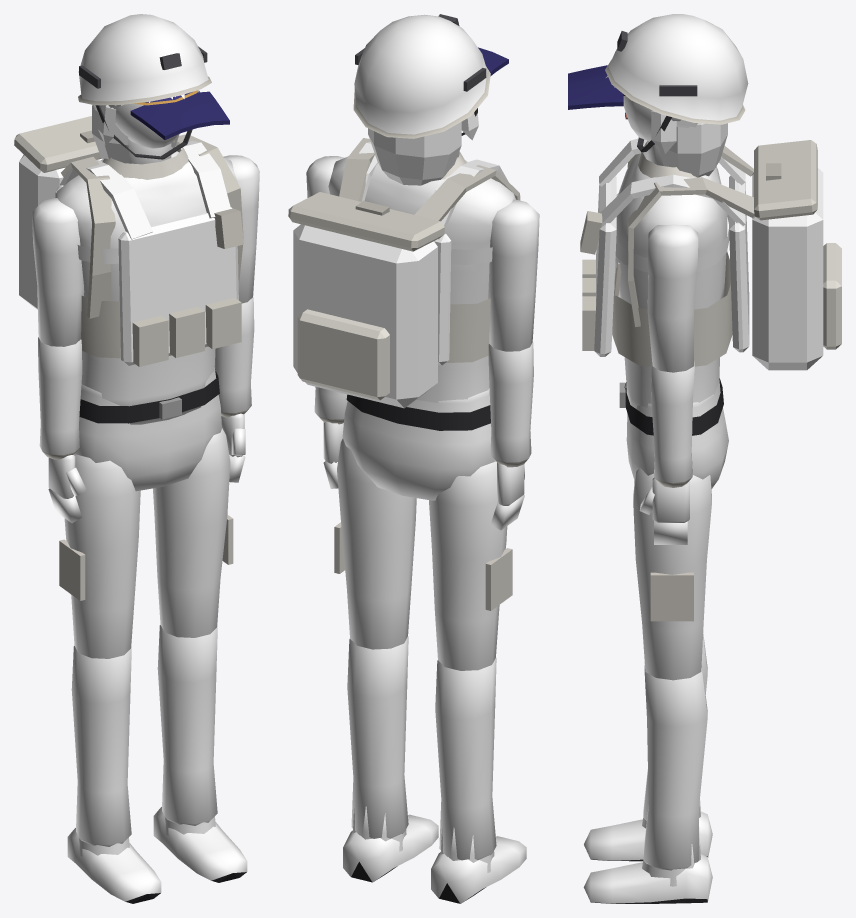
The model's file is person.glb.
3 views of the same model, side by side, from view 1: azimuth 30°, elevation 25°; view 2: azimuth 150°, elevation 25°; view 3: azimuth 270°, elevation 25° (orthographic). The views are drawn at different scales.
Visible parts, largest first — view 1: vest, thighR, thighL, pack, hips, shinR, shinL, helmet, chest, armR, spine, foreR (+10 smaller); view 2: pack, helmet, thighR, hips, thighL, shinR, shinL, chest, armR, vest, foreR, hair_long (+8 smaller); view 3: pack, vest, helmet, thighL, shinL, chest, armL, hips, footL, foreL, hair_long, footR (+5 smaller).
Part boxes in pixels (box(x1,y1,x2,y2)): vest: box(55, 141, 243, 366); thighR: box(59, 454, 140, 658); thighL: box(153, 428, 233, 637); pack: box(14, 116, 243, 318); hips: box(75, 367, 221, 491); shinR: box(71, 646, 131, 846); shinL: box(157, 625, 217, 825); helmet: box(78, 14, 211, 159); chest: box(55, 140, 237, 301); armR: box(31, 198, 84, 346); spine: box(81, 346, 215, 424); foreR: box(38, 337, 82, 459); pack: box(288, 138, 520, 408); helmet: box(353, 14, 490, 138); thighR: box(429, 461, 512, 670); hips: box(342, 388, 495, 500); thighL: box(334, 438, 416, 649); shinR: box(435, 658, 496, 860); shinL: box(347, 636, 408, 838); chest: box(328, 151, 515, 304); armR: box(488, 199, 539, 351); vest: box(359, 142, 508, 365); foreR: box(488, 342, 533, 467); hair_long: box(368, 112, 478, 185); pack: box(627, 140, 841, 370); vest: box(580, 138, 749, 366); helmet: box(605, 14, 748, 152); thighL: box(633, 468, 711, 680); shinL: box(643, 665, 707, 870); chest: box(614, 142, 727, 309); armL: box(647, 224, 698, 372); hips: box(619, 378, 728, 488); footL: box(583, 827, 712, 903); foreL: box(651, 361, 694, 487); hair_long: box(606, 76, 727, 177); footR: box(584, 800, 712, 861).
Bounding box in the file's own units: 0.516 × 1.87 × 0.541.
